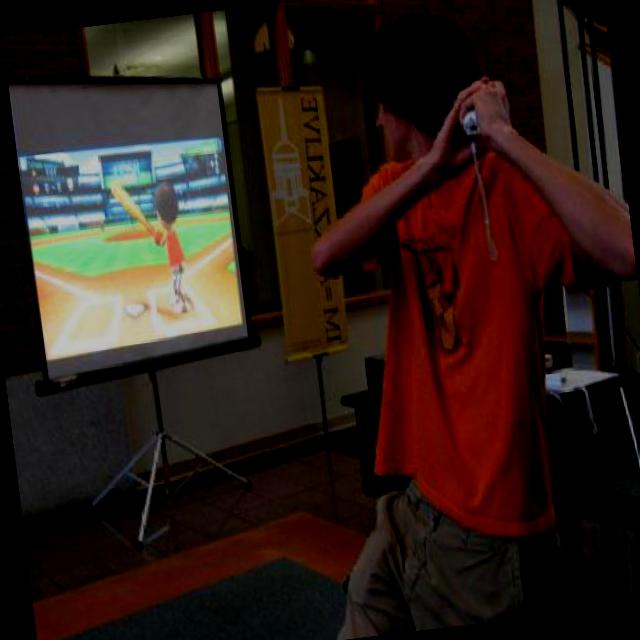Person: (262, 0, 640, 640), (146, 180, 191, 316)
